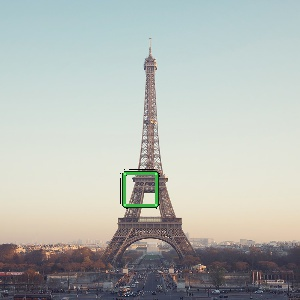square: (119, 168, 162, 211)
